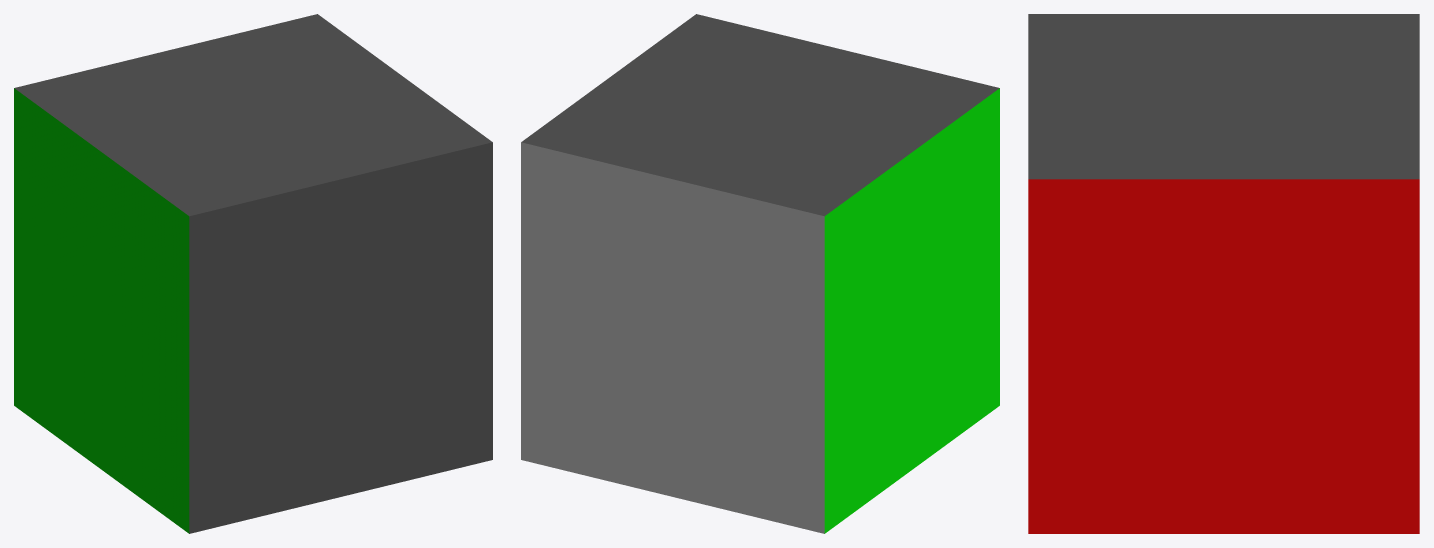
3 views of the same model, side by side, from view 1: azimuth 30°, elevation 25°; view 2: azimuth 150°, elevation 25°; view 3: azimuth 270°, elevation 25° (orthographic). The views are drawn at different scales.
Visible parts, largest first — view 1: gray_far, left, gray_top; view 2: front, left, gray_top; view 3: right, gray_top.
Part boxes in pixels (<box>): gray_far: <box>189,142,492,533</box>; left: <box>14,88,189,533</box>; gray_top: <box>14,14,492,216</box>; front: <box>521,142,824,533</box>; left: <box>824,88,999,533</box>; gray_top: <box>521,14,999,216</box>; right: <box>1028,179,1419,533</box>; gray_top: <box>1028,14,1419,179</box>.
Size of the model in its own units: 2 by 2 by 2.
